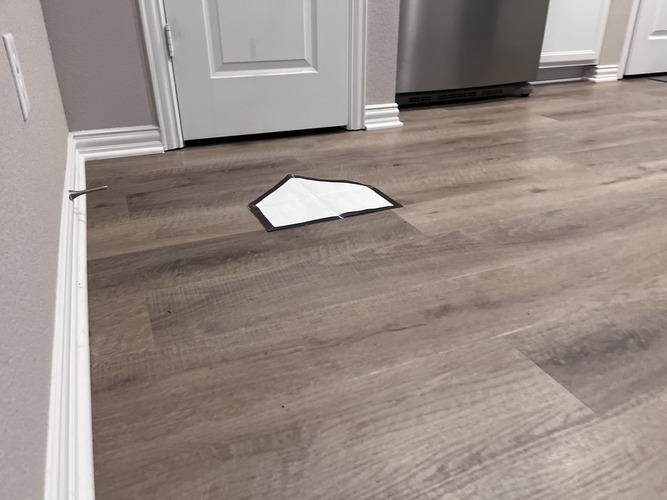homeplate: (249, 173, 403, 232)
